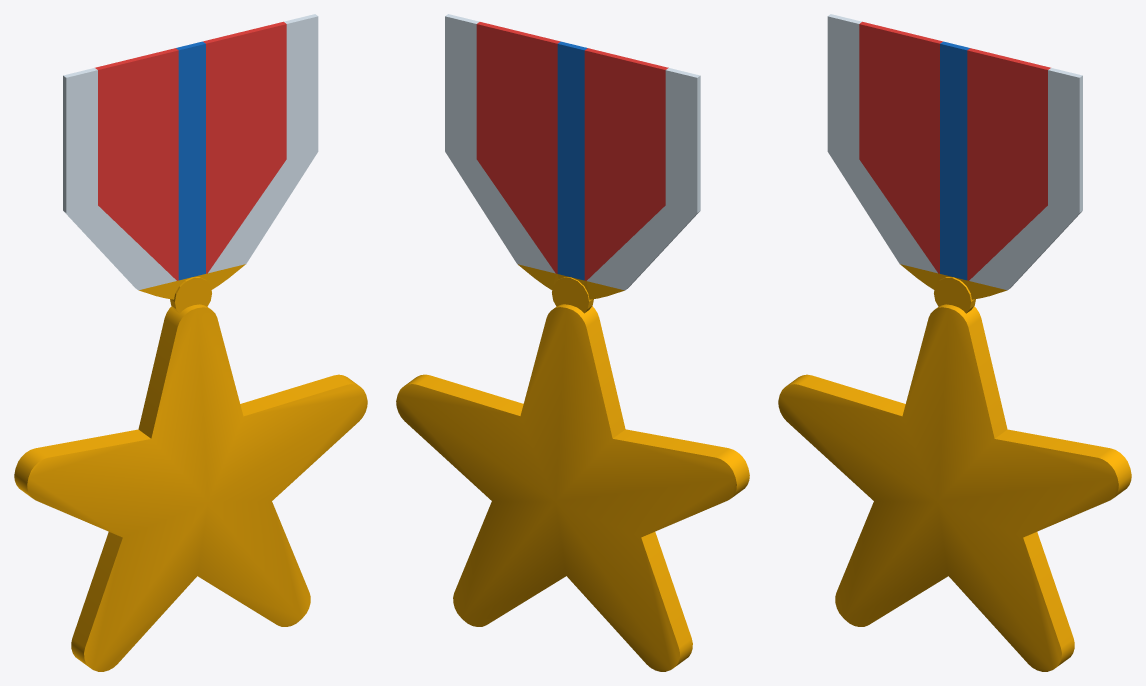
The model's file is military_medal.glb.
3 views of the same model, side by side, from view 1: azimuth 30°, elevation 25°; view 2: azimuth 150°, elevation 25°; view 3: azimuth 330°, elevation 25° (orthographic).
Visible parts, largest first — view 1: Circle.278, Circle.279; view 2: Circle.278, Circle.279; view 3: Circle.278, Circle.279.
Boxes of the visible parts, box(x1,y1,x2,y2) form: Circle.278: box(14, 277, 367, 671); Circle.279: box(63, 14, 318, 299); Circle.278: box(396, 277, 749, 671); Circle.279: box(445, 14, 700, 299); Circle.278: box(778, 277, 1131, 671); Circle.279: box(827, 14, 1082, 299).
Bounding box in the file's own units: 1.42 × 2.39 × 0.2523.
Materials: 1 (1 with a texture image).
